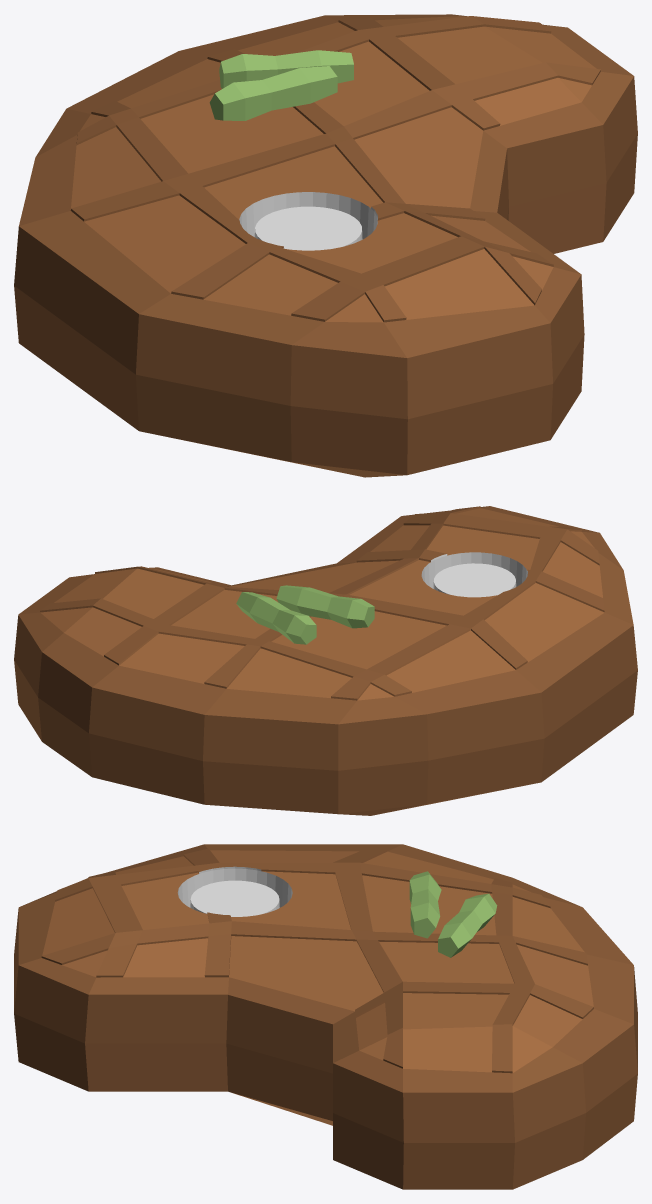
Rendered from tower_steak.glb.
3 renders of one model, top to bottom at view 1: azimuth 30°, elevation 25°; view 2: azimuth 150°, elevation 25°; view 3: azimuth 270°, elevation 25°, orthographic. The views are drawn at different scales.
Parts seen in each view (by area): view 1: Cube, Circle; view 2: Cube, Circle; view 3: Cube, Circle.
Part boxes in pixels (<box>): Cube: <box>14,14,637,477</box>; Circle: <box>209,50,353,120</box>; Cube: <box>14,506,637,815</box>; Circle: <box>236,585,374,644</box>; Cube: <box>14,844,637,1189</box>; Circle: <box>409,871,497,957</box>.
Size of the model in its own units: 3.08 by 1.07 by 3.23.
